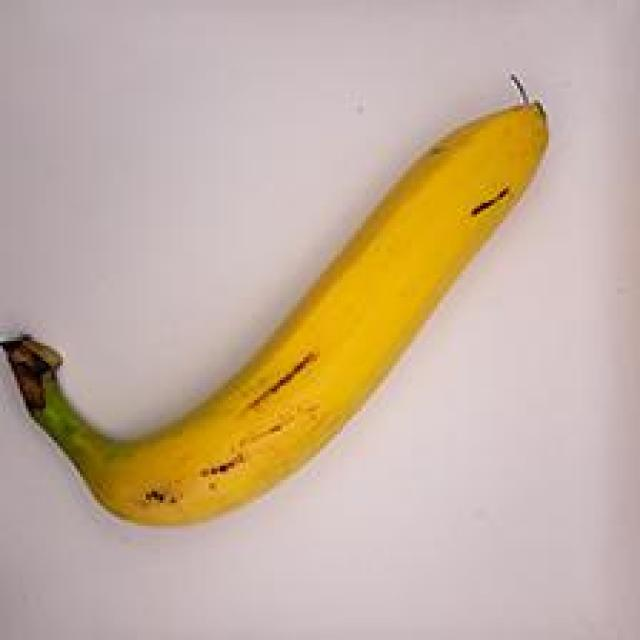ripe: (0, 38, 564, 556)
